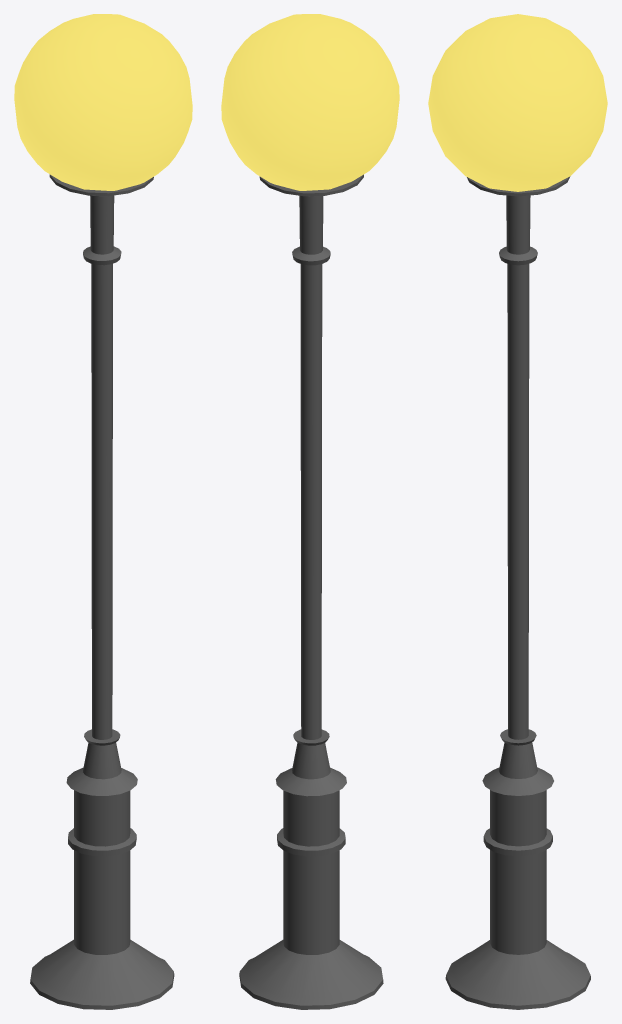
File: Street lamp.glb
3 views of the same model, side by side, from view 1: azimuth 30°, elevation 25°; view 2: azimuth 150°, elevation 25°; view 3: azimuth 270°, elevation 25° (orthographic).
Visible parts, largest first — view 1: Cylinder; view 2: Cylinder; view 3: Cylinder.
Part boxes in pixels (x1,y1,x2,y2): Cylinder: (14,14,192,1009); Cylinder: (221,14,399,1009); Cylinder: (428,14,607,1009).
Bounding box in the file's own units: 0.766 × 4.52 × 0.7675.
